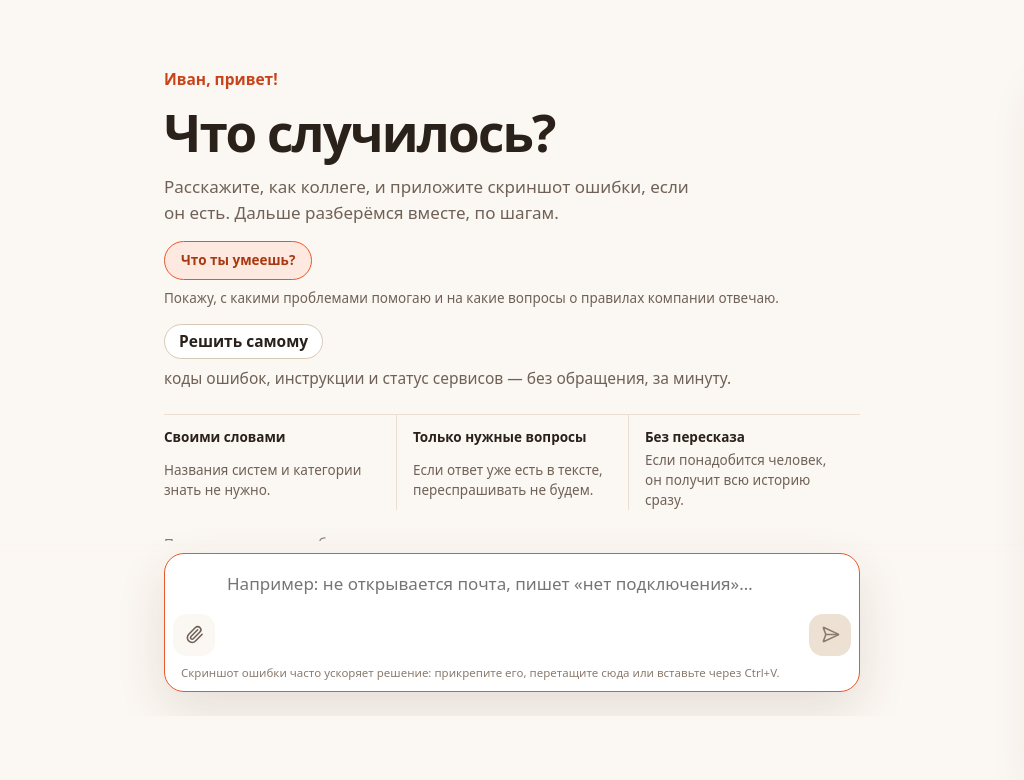
Test: ConversationPage status gating › sends the welcome draft and preserves it after a failed send
Type "Не работает VPN" into the text box named "Опишите проблему" at (512, 609), box [223,562,801,656]
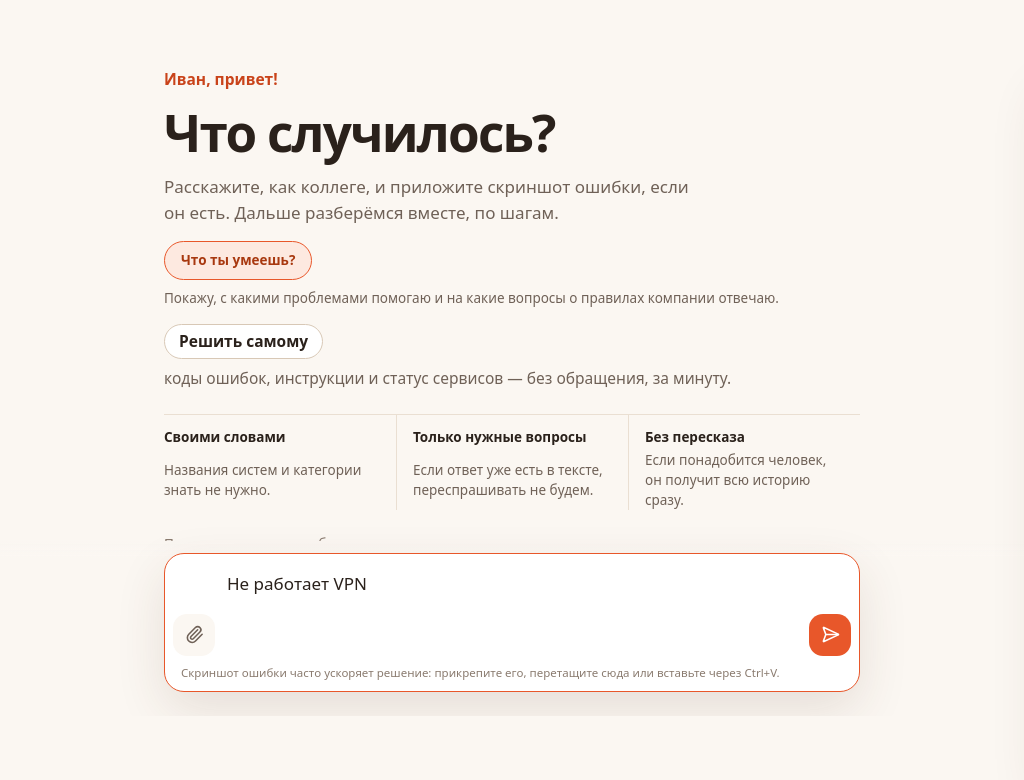
Click the button named "Отправить" at (830, 635), box [809,614,851,656]
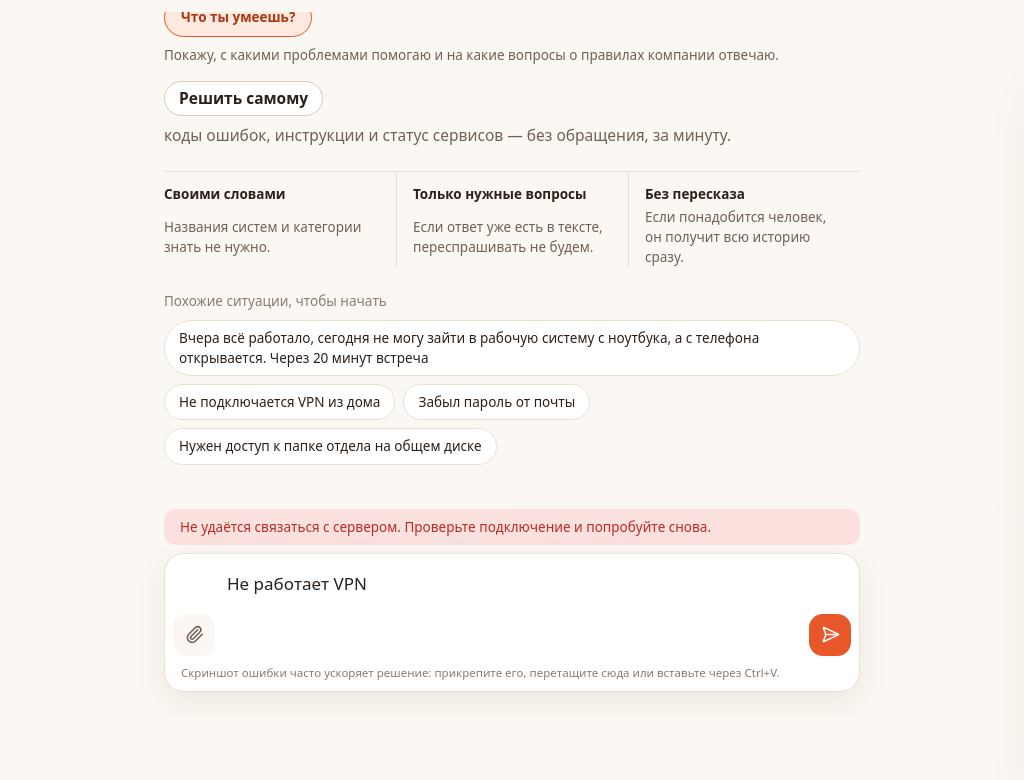
Check: the message shows "сервер", box [180,518,711,536]
Click the button named "Отправить" at (830, 635), box [809,614,851,656]
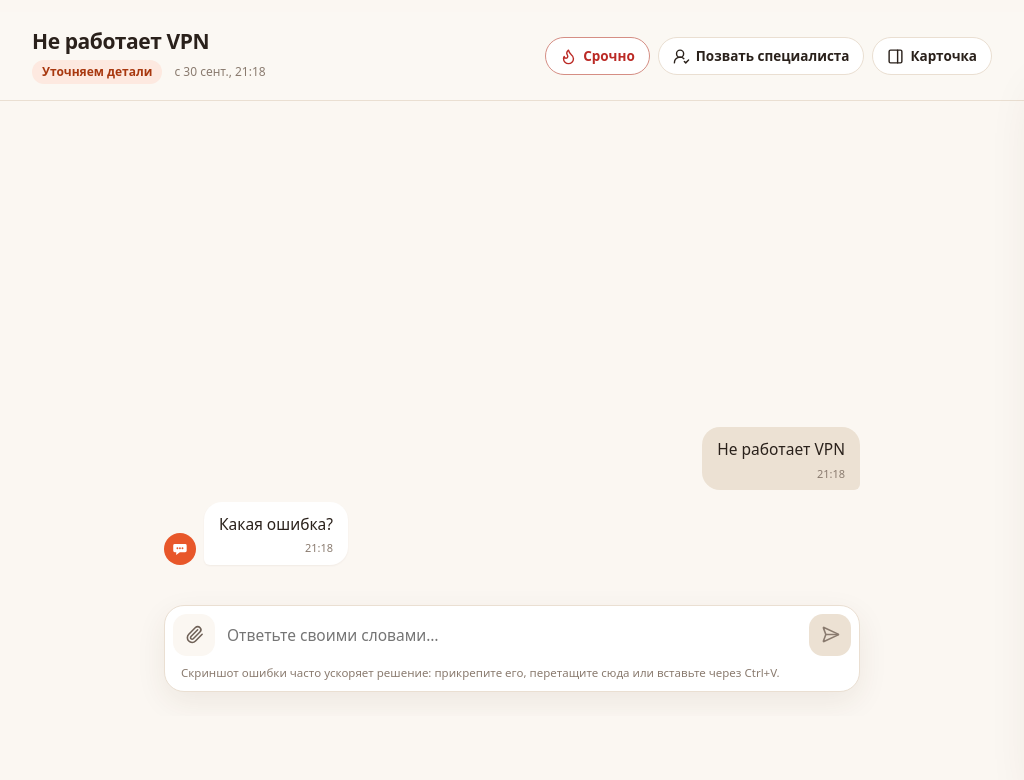
Check: the text "Какая ошибка?" is shown, box [219,513,333,536]
Check: the text "Не работает VPN" is shown, box [717,438,845,462]
